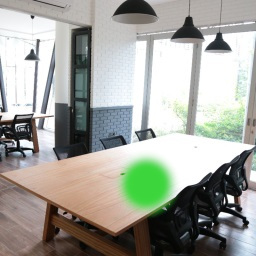focus: (118, 156, 178, 209)
